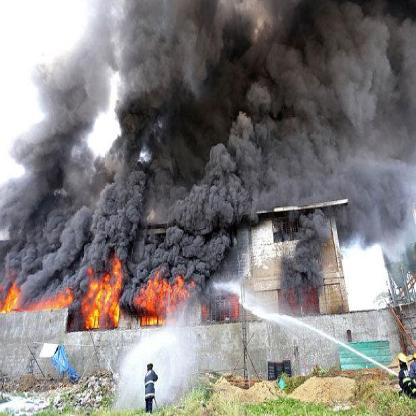fire: (132, 264, 202, 332), (73, 254, 128, 338), (26, 282, 76, 315), (201, 292, 239, 320), (0, 274, 22, 317)
